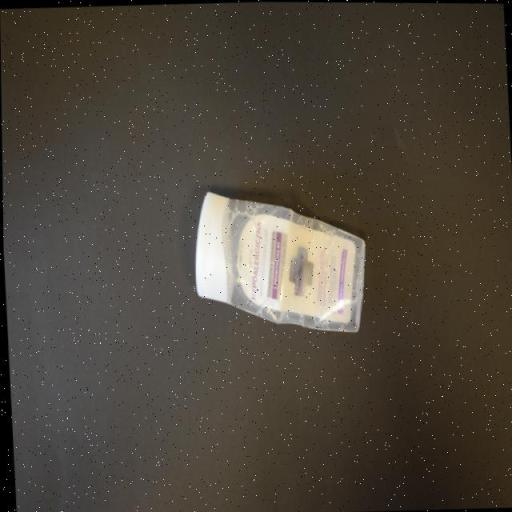plastic: (190, 184, 368, 340)
